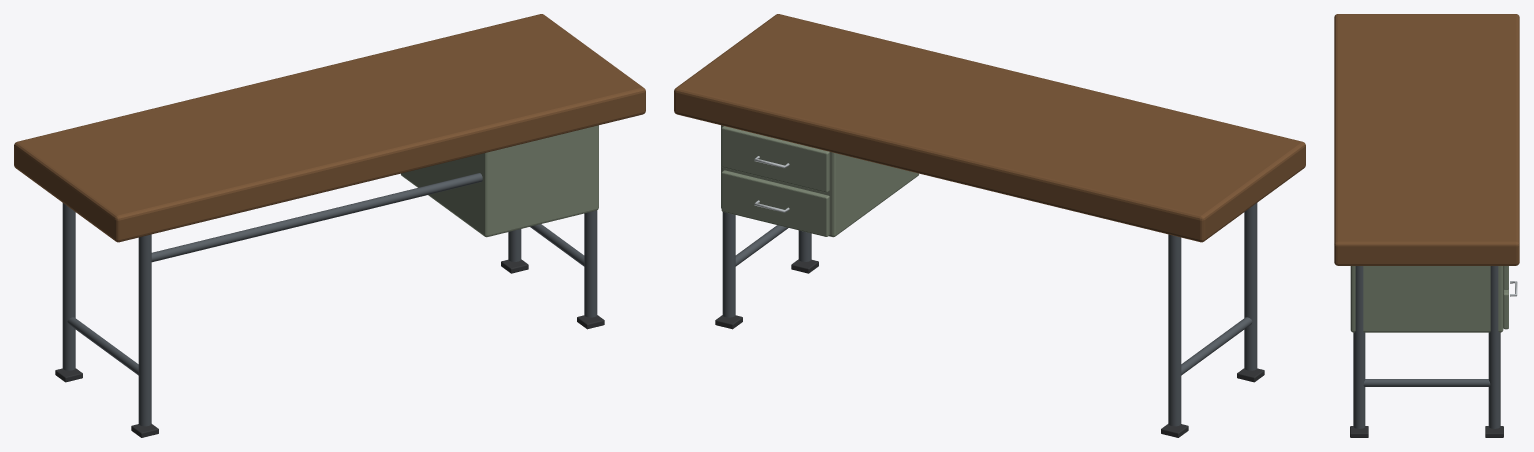
Rendered from desk.glb.
The picture shows the model from 3 angles, left to right: view 1: azimuth 30°, elevation 25°; view 2: azimuth 150°, elevation 25°; view 3: azimuth 270°, elevation 25°; orthographic projection. The views are drawn at different scales.
Parts seen in each view (by area): view 1: desk; view 2: desk; view 3: desk.
Part boxes in pixels (x1,y1,x2,y2): desk: (14, 14, 645, 437); desk: (674, 14, 1305, 437); desk: (1334, 14, 1519, 437).
Size of the model in its own units: 2.5 by 1.06 by 0.85.
